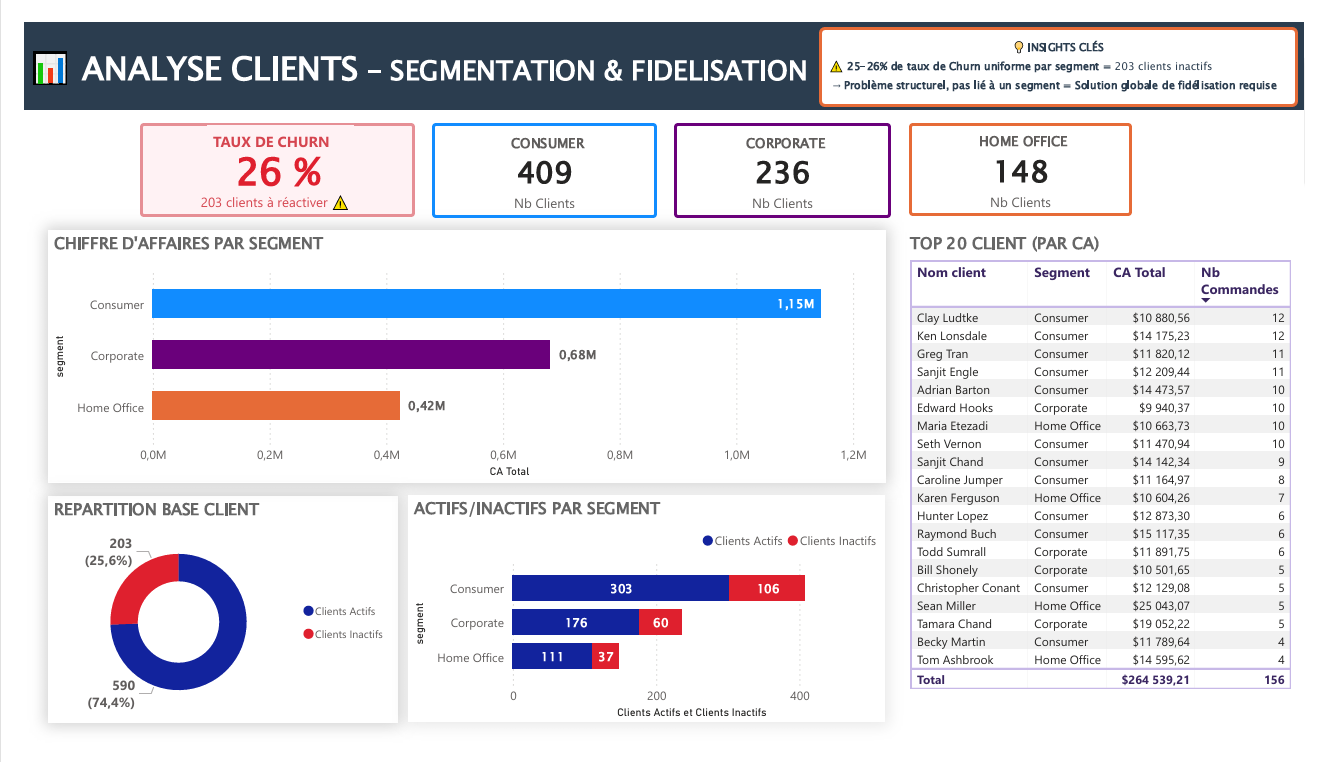

This screenshot's page, from the dashboard's own definition file:
{"tool":"powerbi","page":{"name":"Analyse clients","canvas":[1280,720],"ordinal":2},"visuals":[{"type":"card","fields":{"Values":["MESURE.Taux Churn"]},"box":[114.8,100.2,275.3,94.3],"z":0,"group":"g1"},{"type":"donutChart","title":"REPARTITION BASE CLIENT","fields":{"Y":["Mesure 1.Clients Actifs","Mesure 1.Clients Inactifs"]},"box":[23.3,472.7,349.2,227.6],"z":0},{"type":"barChart","title":"CHIFFRE D''AFFAIRES PAR SEGMENT","fields":{"Y":["Mesure 1.CA Total"],"Category":["dim_customer.segment"]},"box":[23.3,207.2,837.4,252.9],"z":1000},{"type":"tableEx","title":"TOP 20 CLIENT (PAR CA)","fields":{"Values":["dim_customer.customer_name","dim_customer.segment","Mesure 1.CA Total","Mesure 1.Nb Commandes"]},"box":[879.3,207.2,400.7,502.9],"z":2000},{"type":"card","fields":{"Values":["MESURE.Nb Clients"]},"box":[407.4,99.7,224.3,94.9],"z":3000},{"type":"card","fields":{"Values":["MESURE.Nb Clients"]},"box":[648.6,99.7,217.2,94.9],"z":4000},{"type":"card","fields":{"Values":["MESURE.Nb Clients"]},"box":[884.5,99.7,222.6,93.1],"z":5000},{"type":"textbox","box":[0,0,1280.4,87.8],"z":6000},{"type":"group","id":"g1","title":"Groupe 2","box":[114.8,100.2,275.3,94.3],"z":7000},{"type":"textbox","box":[794.5,3.5,478.8,80.7],"z":8000},{"type":"textbox","box":[183.3,103,146.5,30],"z":8000,"group":"g2"},{"type":"textbox","box":[154.9,165.4,194.5,26.5],"z":9000,"group":"g2"},{"type":"barChart","title":"ACTIFS/INACTIFS PAR SEGMENT","fields":{"Category":["dim_customer.segment"],"Y":["MESURE.Clients Actifs","MESURE.Clients Inactifs"]},"box":[384.2,472.7,476.6,227.6],"z":9000},{"type":"group","id":"g2","title":"Groupe 1","box":[154.9,103,194.5,88.8],"z":9001,"group":"g1"}]}

Visuals, with their boxes in screenshot pixels (x1, y1, x2, y2), scaled from the page's 1280x720 canvas onto the 1328x762 screenshot:
card - MESURE.Taux Churn: crop(119, 106, 405, 206)
"REPARTITION BASE CLIENT" donutChart: crop(24, 500, 386, 741)
"CHIFFRE D''AFFAIRES PAR SEGMENT" barChart: crop(24, 219, 893, 487)
"TOP 20 CLIENT (PAR CA)" tableEx: crop(912, 219, 1327, 752)
card - MESURE.Nb Clients: crop(423, 106, 655, 206)
card - MESURE.Nb Clients: crop(673, 106, 898, 206)
card - MESURE.Nb Clients: crop(918, 106, 1149, 204)
textbox: crop(0, 0, 1327, 93)
"Groupe 2" group: crop(119, 106, 405, 206)
textbox: crop(824, 4, 1321, 89)
textbox: crop(190, 109, 342, 141)
textbox: crop(161, 175, 363, 203)
"ACTIFS/INACTIFS PAR SEGMENT" barChart: crop(399, 500, 893, 741)
"Groupe 1" group: crop(161, 109, 363, 203)
